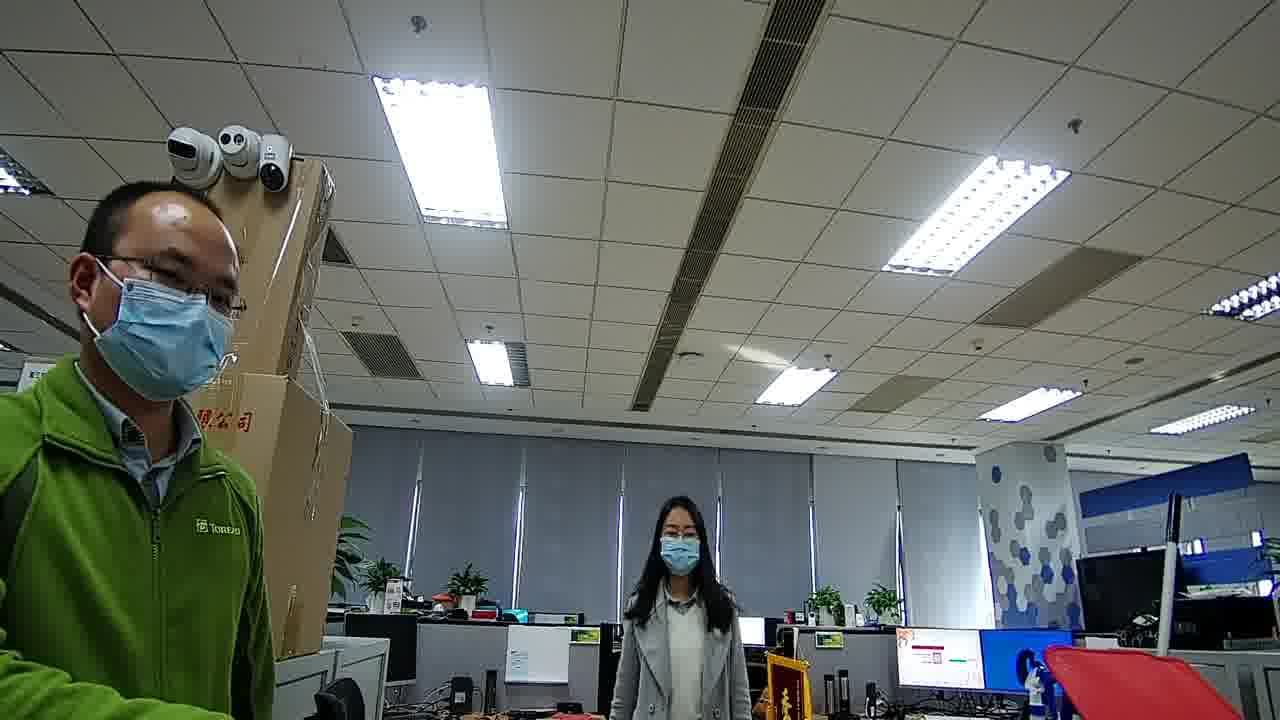face: (89, 206, 241, 405), (656, 510, 702, 576)
mask: (91, 284, 235, 401), (660, 534, 702, 579)
person: (1, 187, 266, 519), (625, 493, 742, 638)
